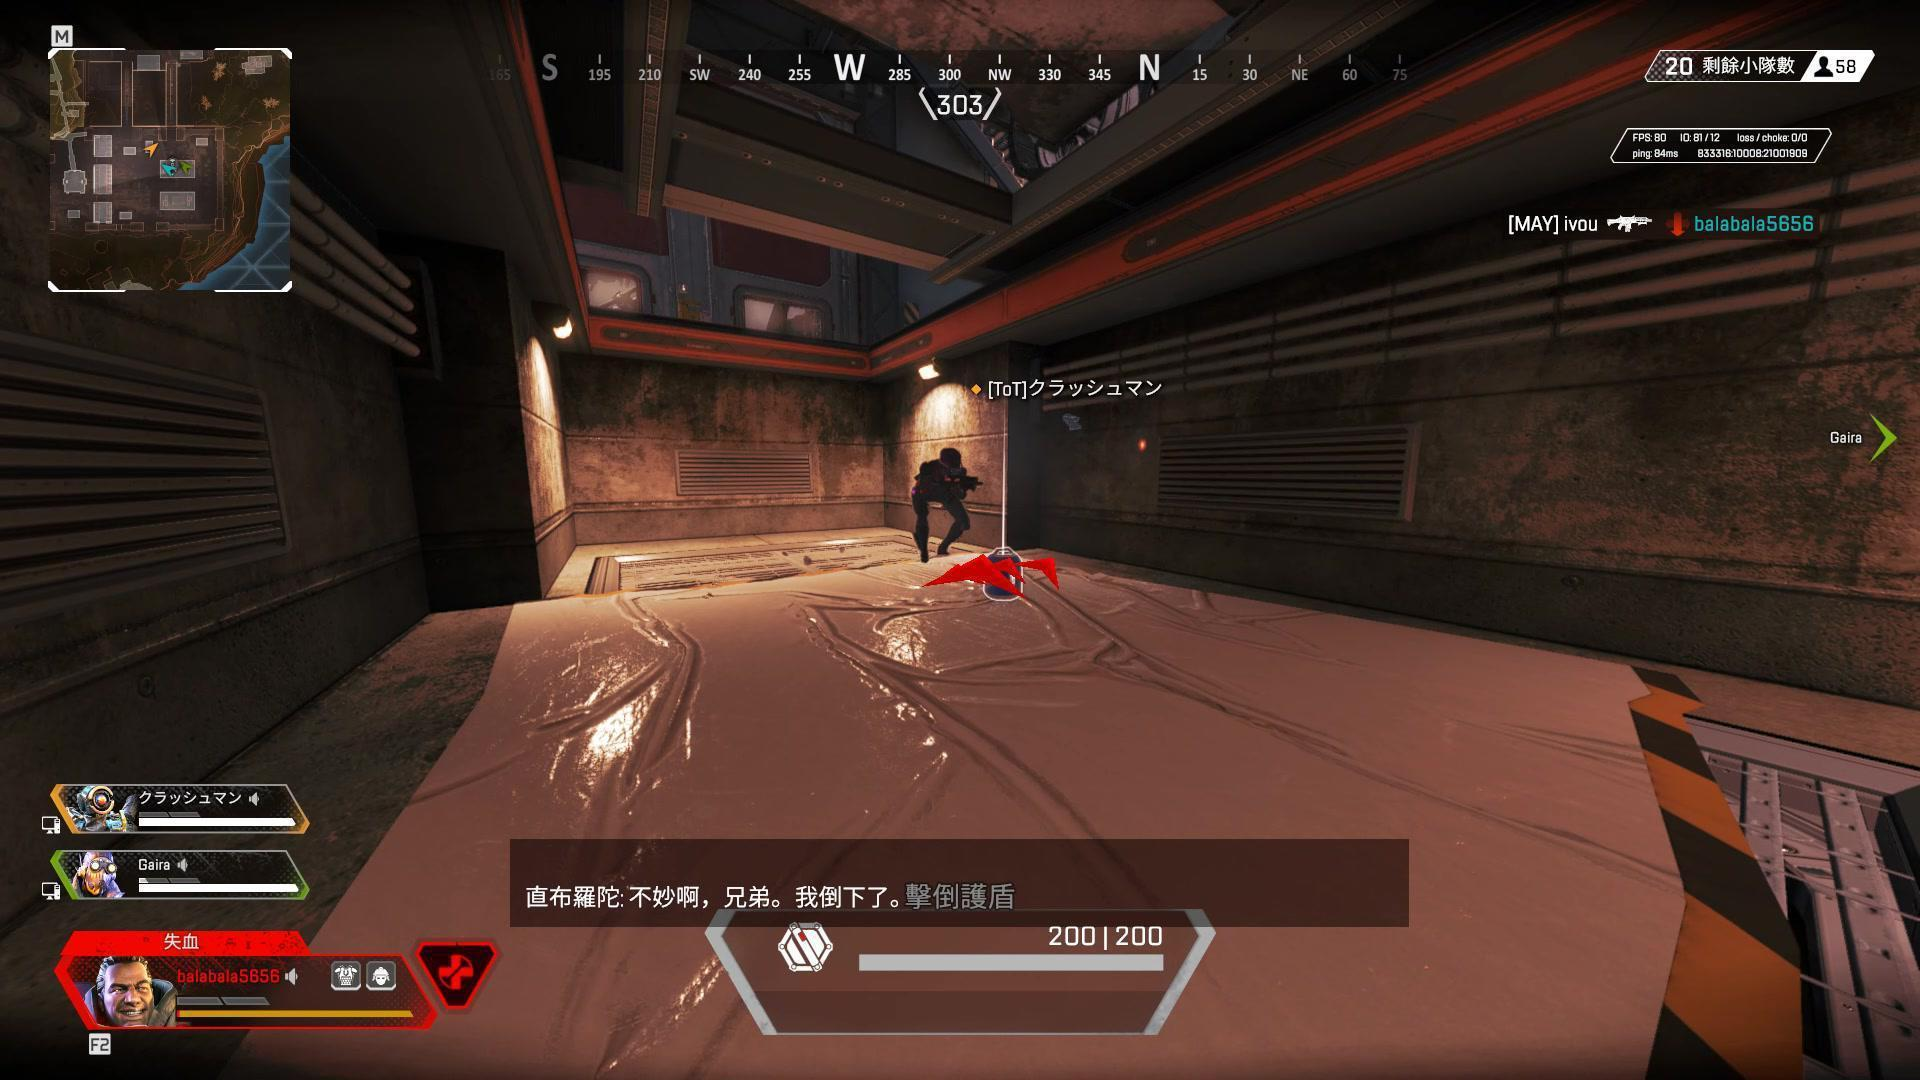avatar: (905, 445, 985, 563)
